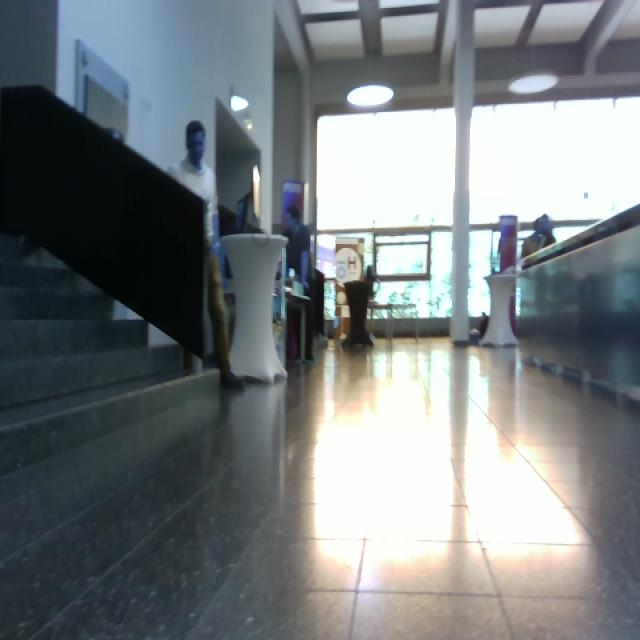light bulb: (508, 70, 559, 96), (347, 84, 395, 108), (252, 165, 261, 218), (230, 94, 249, 112), (337, 292, 347, 305)
person: (167, 120, 246, 392), (284, 205, 315, 362)
pillar: (450, 1, 476, 345)
tiled floor: (2, 332, 639, 638)
window: (315, 106, 456, 321)
